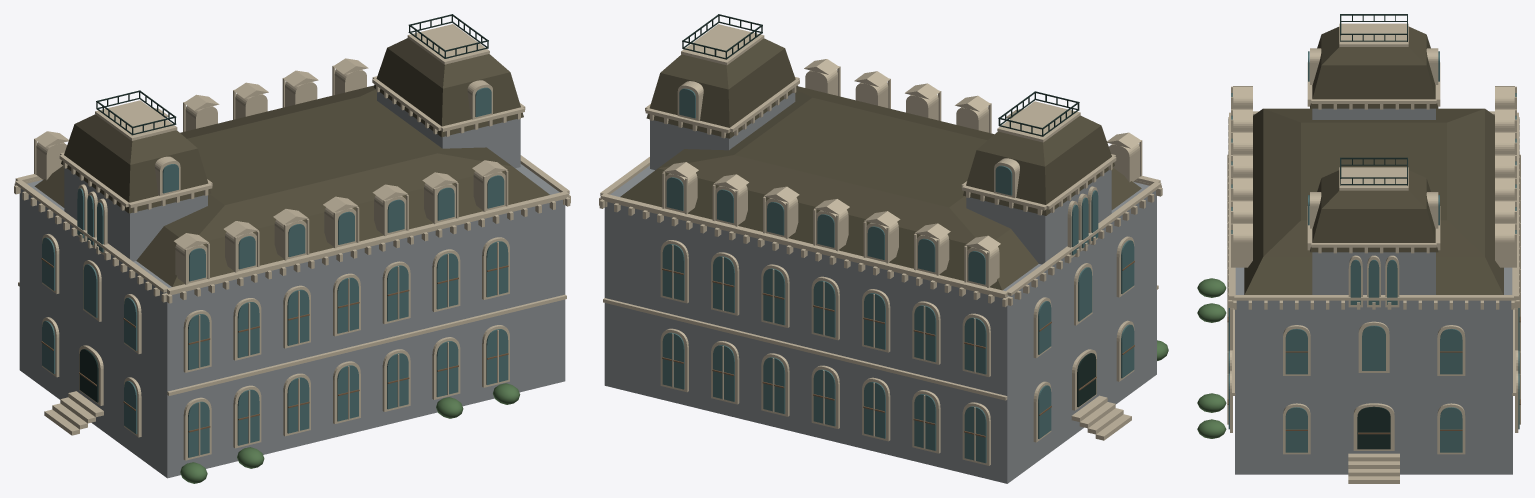
The model's file is university-hall-mansard-exterior-2026-11-04.glb.
3 renders of one model, left to right at view 1: azimuth 30°, elevation 25°; view 2: azimuth 150°, elevation 25°; view 3: azimuth 270°, elevation 25°, orthographic. The views are drawn at different scales.
Parts seen in each view (by area): view 1: university-part-0, university-part-1; view 2: university-part-0; view 3: university-part-0, university-part-1.
Part boxes in pixels (x1,y1,x2,y2): university-part-0: [14, 14, 570, 478]; university-part-1: [180, 383, 520, 483]; university-part-0: [599, 14, 1162, 483]; university-part-0: [1227, 14, 1520, 483]; university-part-1: [1197, 278, 1226, 438].
Bounding box in the file's own units: 32.98 × 20.52 × 20.95.
